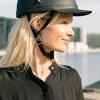helmet: (11, 0, 98, 21)
